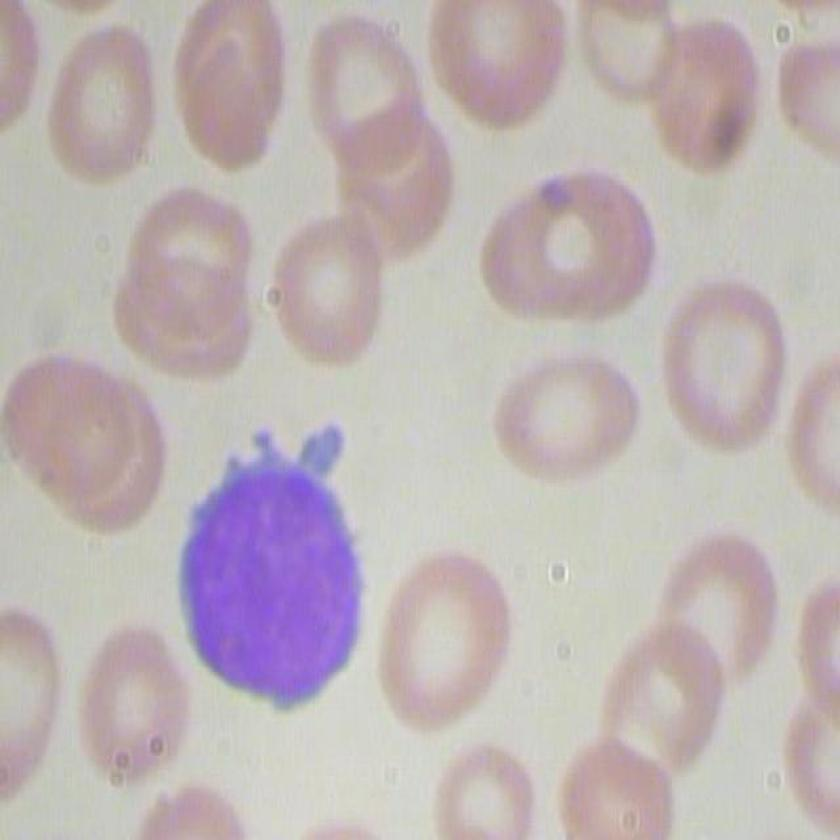lymphocyte: (178, 420, 371, 714)
